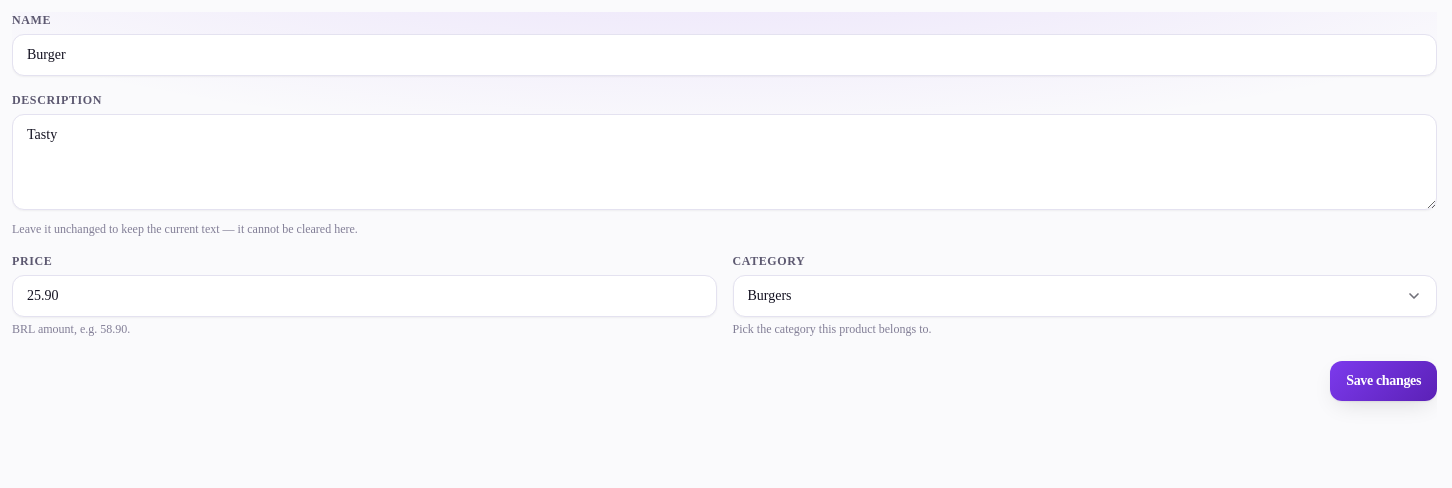
it: ProductForm (edit) › blocks a no-op edit with the noChanges message
Step 1. Click the button "Save changes" → (1384,381), box x1=1330 y1=361 x2=1437 y2=401
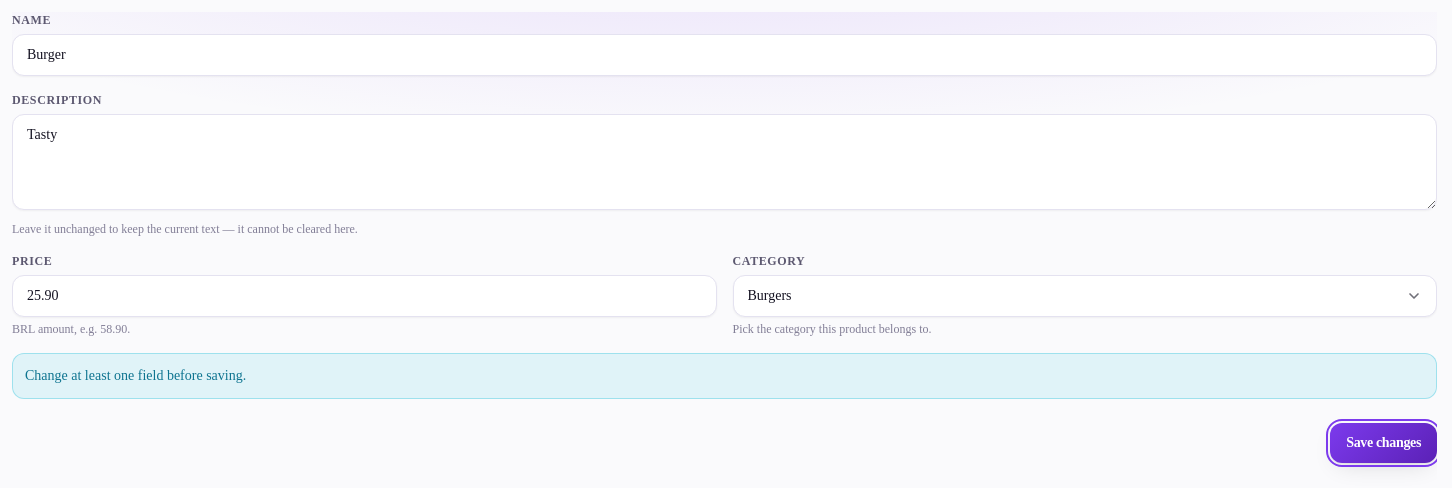
Expected: the message shows "Change at least one field", x1=25 y1=368 x2=246 y2=383
